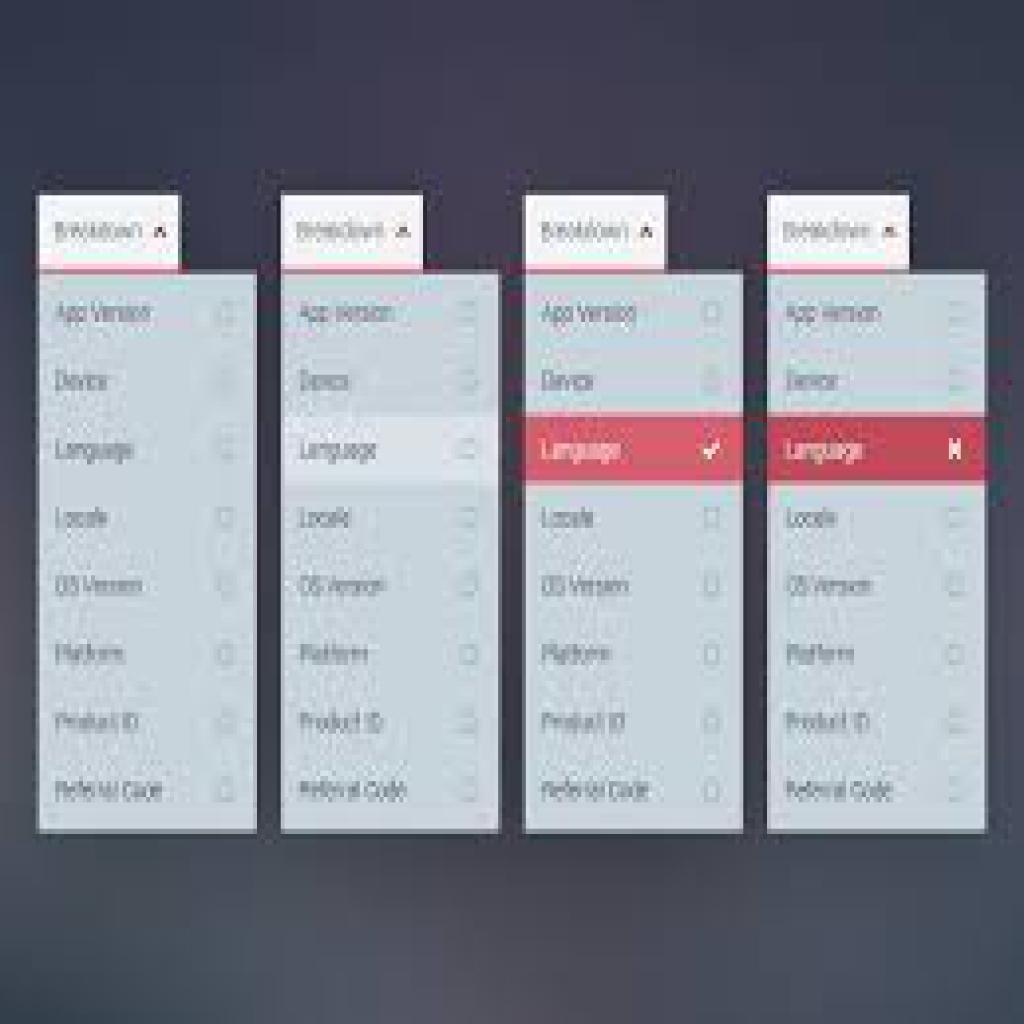dropdown: (768, 193, 914, 273), (282, 196, 426, 272), (526, 196, 666, 273), (40, 197, 183, 271)
